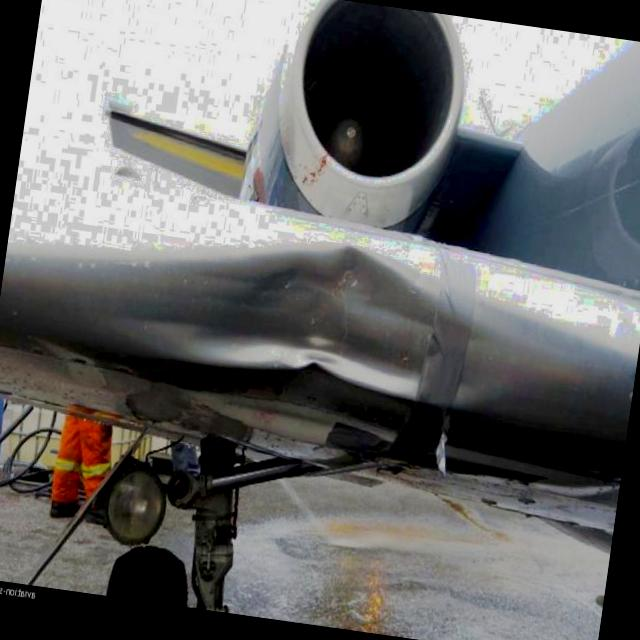dent: (102, 213, 492, 404)
